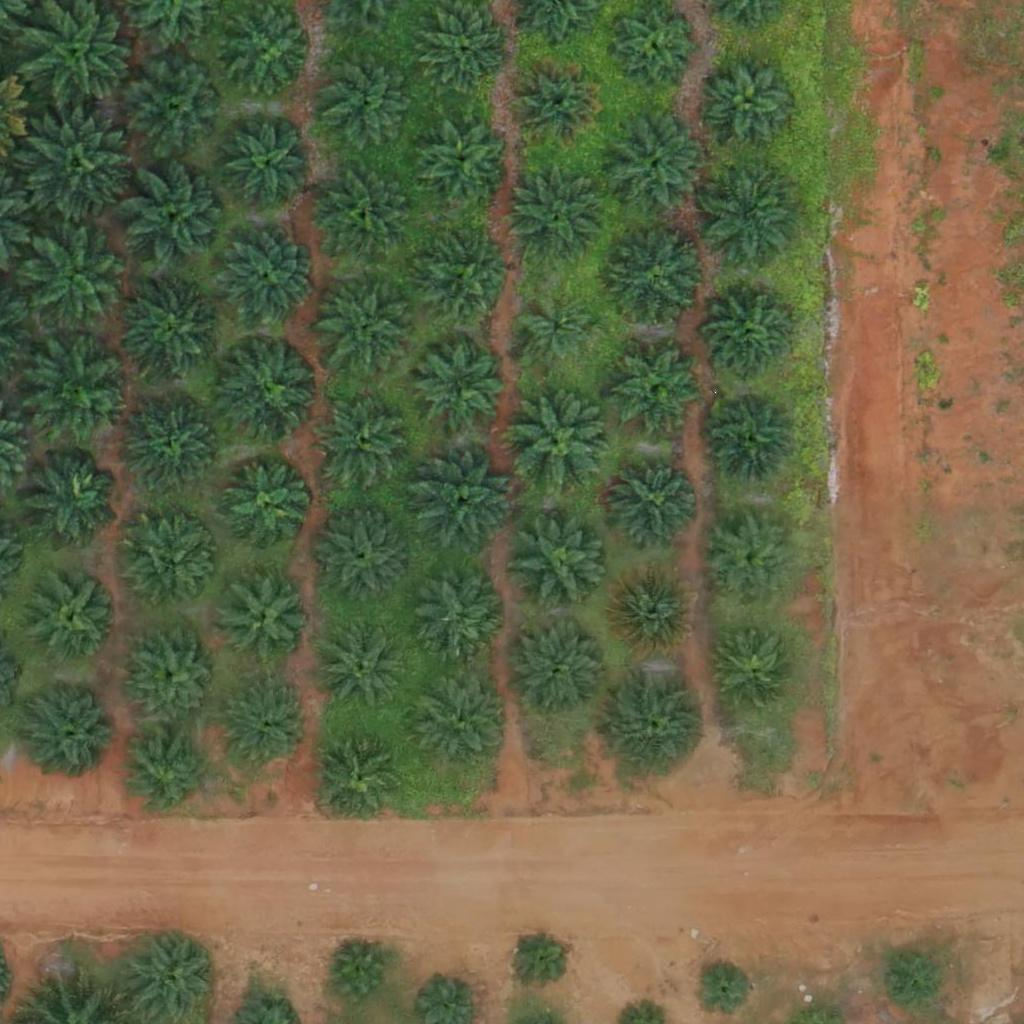Kelapa_Sawit: (20, 226, 133, 339), (19, 108, 131, 221), (513, 393, 613, 494), (413, 113, 513, 214), (414, 229, 514, 330), (412, 453, 512, 554), (319, 49, 419, 150), (316, 166, 416, 267), (315, 275, 415, 376), (314, 392, 414, 493), (312, 508, 412, 609), (215, 226, 315, 327), (220, 339, 320, 440), (125, 57, 225, 158), (123, 166, 223, 267), (121, 282, 221, 383), (123, 392, 223, 493), (31, 336, 131, 437), (409, 666, 509, 767), (511, 514, 611, 615), (509, 618, 609, 719), (608, 672, 708, 773), (698, 163, 798, 263), (603, 115, 703, 215), (605, 229, 705, 329), (508, 167, 608, 267), (20, 448, 120, 548), (23, 680, 123, 780), (125, 626, 225, 726), (708, 58, 796, 146), (615, 345, 703, 433), (609, 455, 697, 543), (422, 5, 510, 93), (222, 463, 310, 551), (222, 576, 310, 664), (224, 682, 312, 770), (320, 622, 408, 710), (317, 732, 405, 820), (609, 566, 697, 654), (714, 629, 802, 717), (708, 295, 795, 383), (709, 392, 796, 480), (708, 518, 795, 606), (610, 1, 697, 89), (514, 59, 601, 147), (417, 341, 504, 429), (222, 8, 309, 96), (225, 123, 312, 211), (128, 522, 215, 610), (31, 572, 118, 660), (125, 729, 212, 817), (424, 569, 511, 657), (520, 295, 595, 371), (508, 927, 571, 990), (875, 949, 938, 1012), (328, 943, 390, 1006), (693, 958, 755, 1021)
